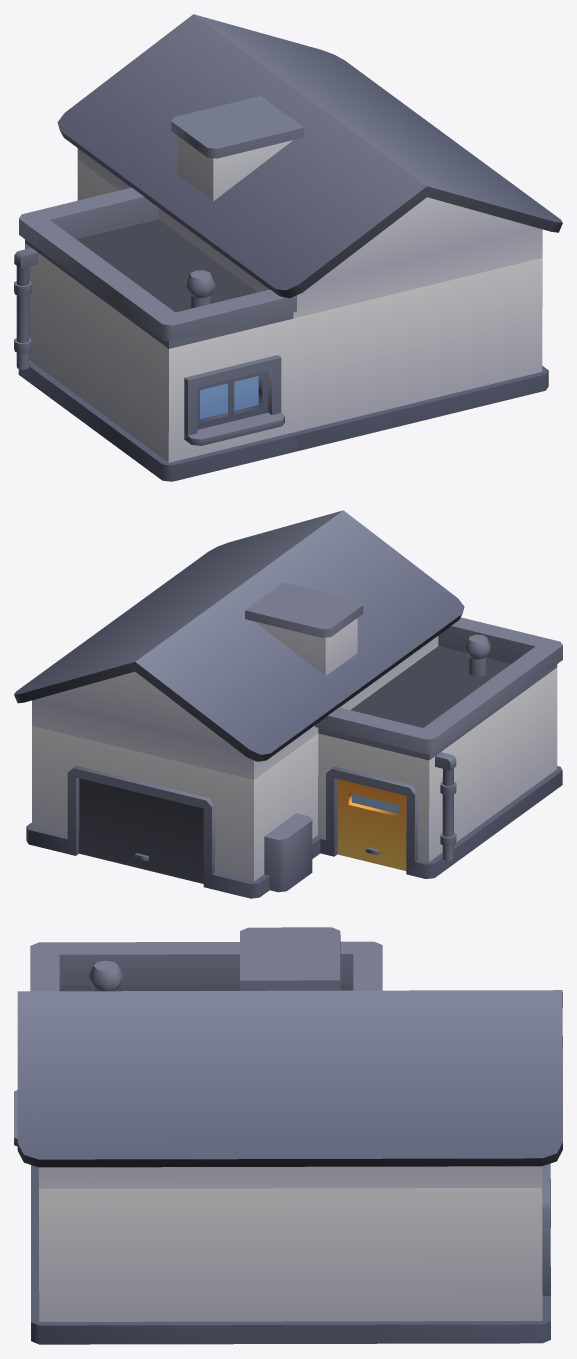
File: building-h_lev1.glb
3 views of the same model, one above another, from view 1: azimuth 30°, elevation 25°; view 2: azimuth 150°, elevation 25°; view 3: azimuth 270°, elevation 25° (orthographic). The views are drawn at different scales.
Parts seen in each view (by area): view 1: building-h_lev1; view 2: building-h_lev1; view 3: building-h_lev1.
Boxes of the visible parts, x1=… form: building-h_lev1: x1=14, y1=14, x2=562, y2=481; building-h_lev1: x1=14, y1=510, x2=562, y2=898; building-h_lev1: x1=14, y1=927, x2=562, y2=1344.
Bounding box in the file's own units: 1.32 × 0.7368 × 1.31.
Materials: 1 (1 with a texture image).
